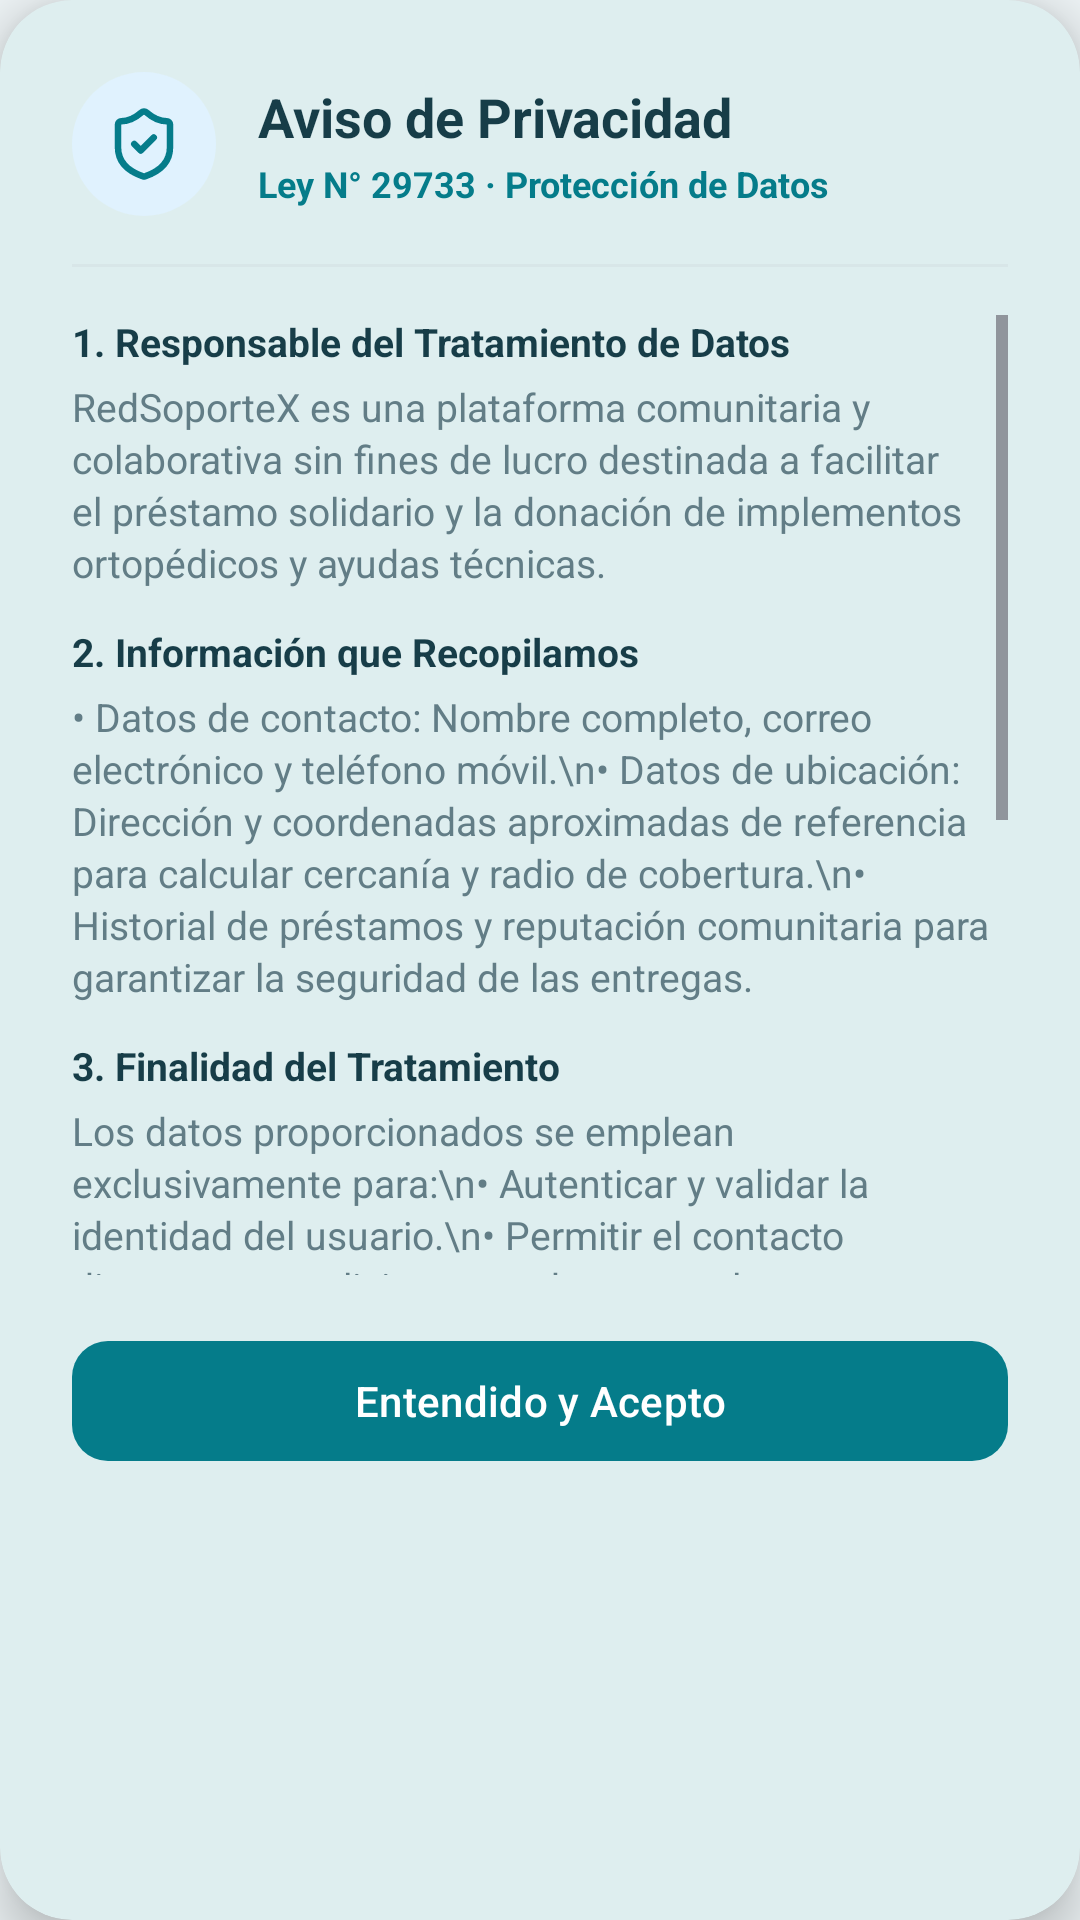

Where icons sit on this 1080*1920 app screen, as (x1, y1, x2, y2):
auth shield: (114, 108, 174, 180)
